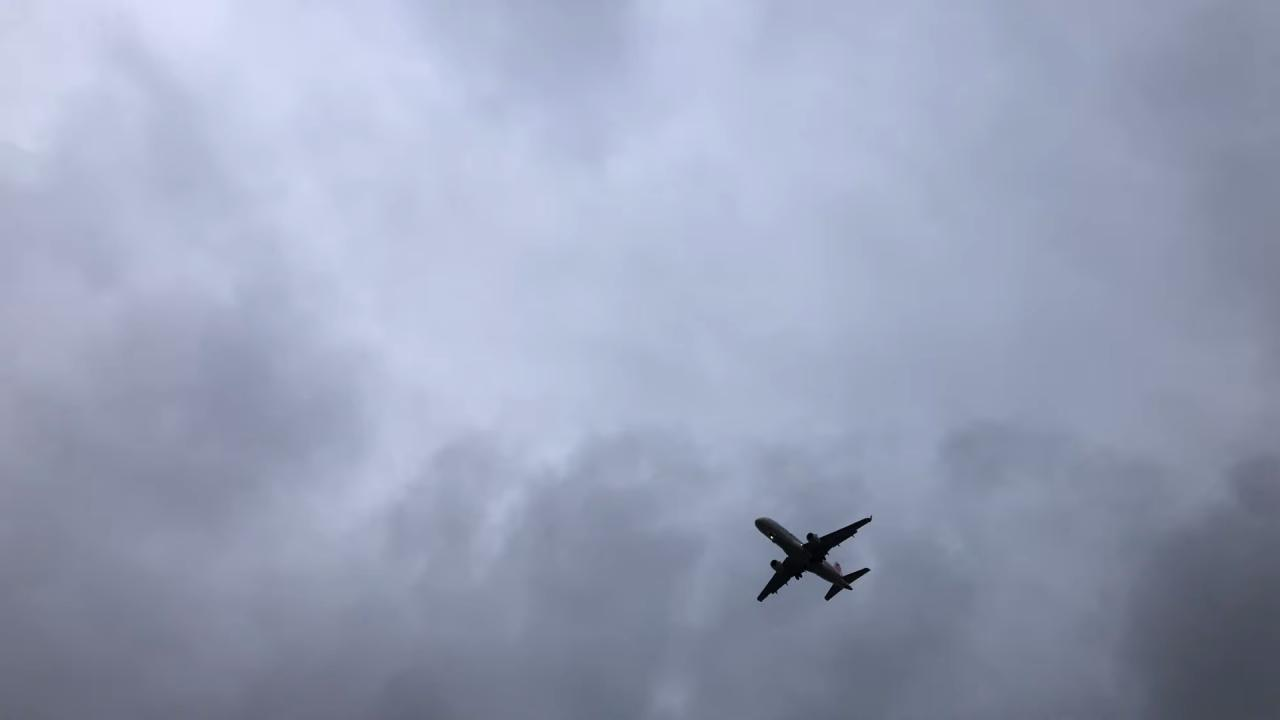Airplane: (738, 506, 882, 612)
